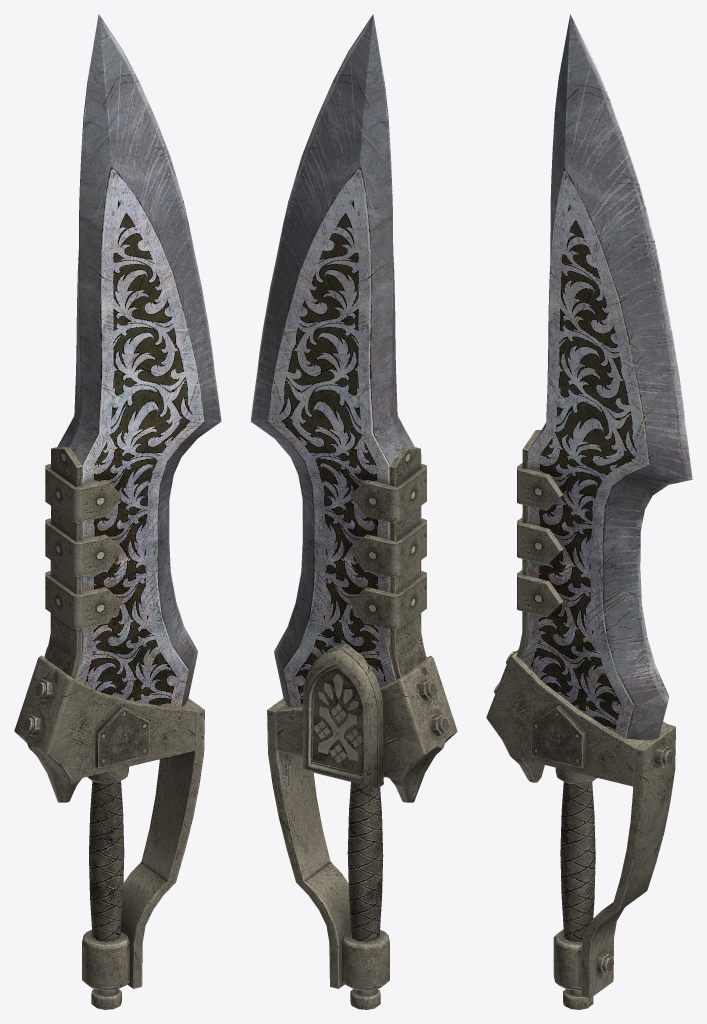
File: bs_sou013.obj
3 views of the same model, side by side, from view 1: azimuth 30°, elevation 25°; view 2: azimuth 150°, elevation 25°; view 3: azimuth 330°, elevation 25° (orthographic).
Visible parts, largest first — view 1: bs_sou013_000_LOD_1; view 2: bs_sou013_000_LOD_1; view 3: bs_sou013_000_LOD_1.
Boxes of the visible parts, x1,y1,x2,y2 form: bs_sou013_000_LOD_1: (14, 14, 221, 1009); bs_sou013_000_LOD_1: (250, 14, 457, 1009); bs_sou013_000_LOD_1: (486, 14, 692, 1009).
Size of the model in its own units: 22.3 by 107 by 9.83.
